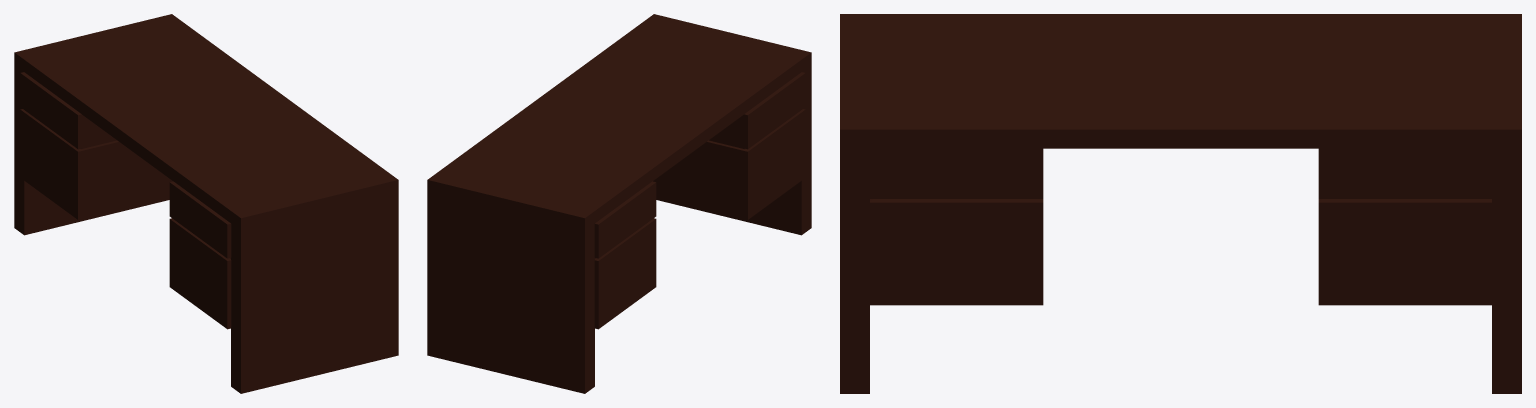
The model's file is BLS_RecruitDesk_Shanna.fbx.
3 renders of one model, left to right at view 1: azimuth 30°, elevation 25°; view 2: azimuth 150°, elevation 25°; view 3: azimuth 270°, elevation 25°, orthographic. The views are drawn at different scales.
Visible parts, largest first — view 1: Cube; view 2: Cube; view 3: Cube.
Boxes of the visible parts, x1,y1,x2,y2 form: Cube: (14, 14, 398, 393); Cube: (427, 14, 811, 393); Cube: (840, 14, 1521, 393).
Size of the model in its own units: 393 by 409 by 955.
